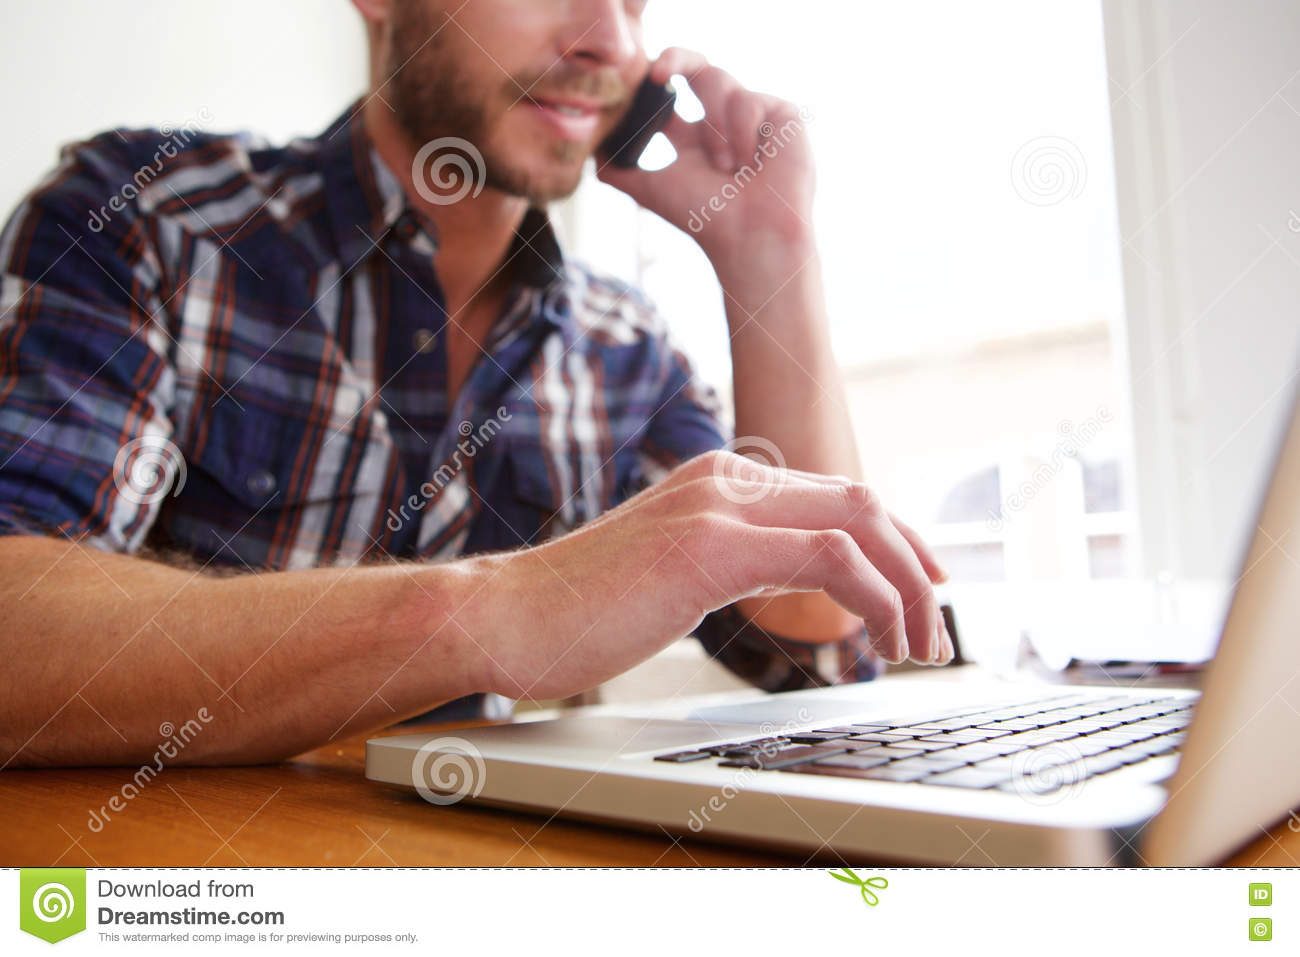phone: (601, 55, 686, 183)
